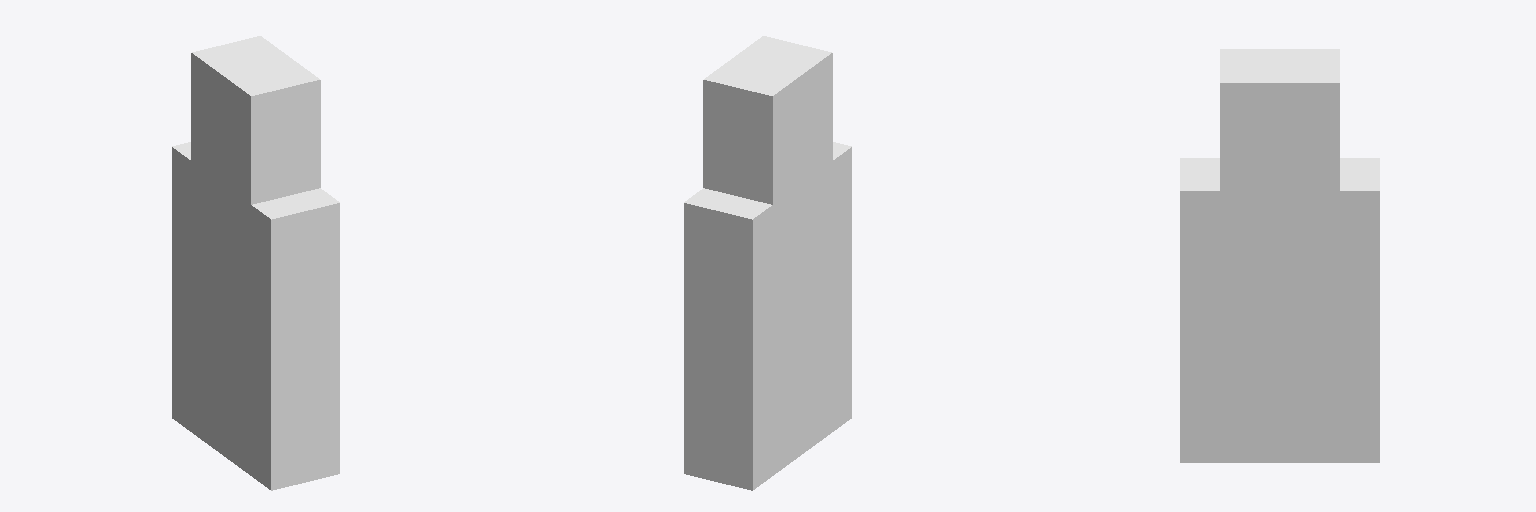
The model's file is guy2body.obj.
3 renders of one model, left to right at view 1: azimuth 30°, elevation 25°; view 2: azimuth 150°, elevation 25°; view 3: azimuth 270°, elevation 25°, orthographic.
Visible parts, largest first — view 1: guy2body; view 2: guy2body; view 3: guy2body.
Boxes of the visible parts, x1=… form: guy2body: x1=172, y1=36, x2=339, y2=490; guy2body: x1=684, y1=36, x2=851, y2=490; guy2body: x1=1180, y1=49, x2=1379, y2=462.
Bounding box in the file's own units: 4 × 21 × 10.